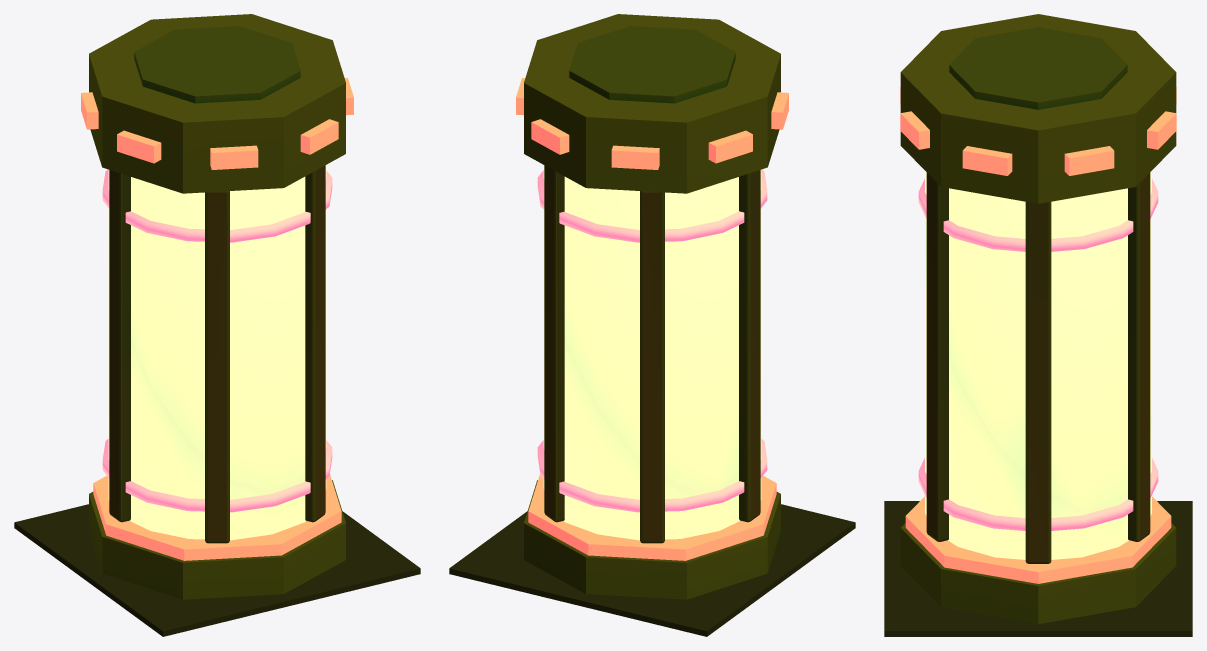
File: light_pillar.glb
The picture shows the model from 3 angles, left to right: view 1: azimuth 30°, elevation 25°; view 2: azimuth 150°, elevation 25°; view 3: azimuth 270°, elevation 25°; orthographic projection. The views are drawn at different scales.
Parts seen in each view (by area): view 1: light_pillar; view 2: light_pillar; view 3: light_pillar.
Part boxes in pixels (x1,y1,x2,y2): light_pillar: [14, 14, 420, 636]; light_pillar: [449, 14, 855, 636]; light_pillar: [884, 14, 1192, 636].
Bounding box in the file's own units: 1.9 × 3.45 × 1.9.
